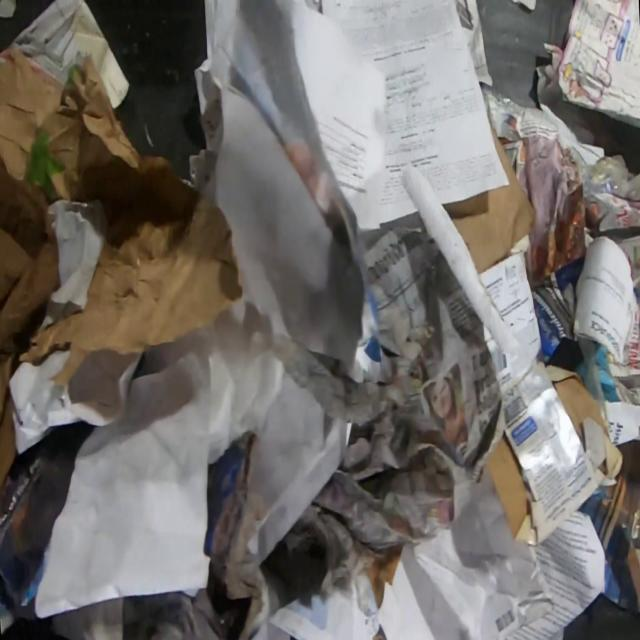cardboard: (478, 250, 601, 546), (440, 118, 538, 274), (484, 433, 534, 541), (551, 375, 612, 450)
soft_plastic: (272, 332, 419, 427), (579, 152, 640, 201)
